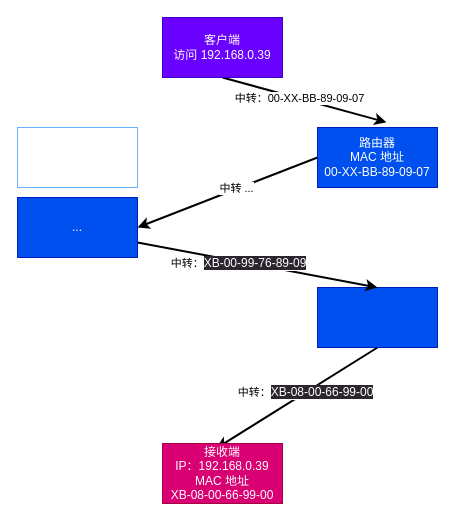
This 455x521 diagram has some shape labels left out. The box of each missing label's shape, as (x1, y1, x2, y2) in pixels:
多个中转路由器: (16, 126, 138, 188)
路由器 MAC 地址 XB-00-99-76-89-09: (316, 286, 438, 348)
